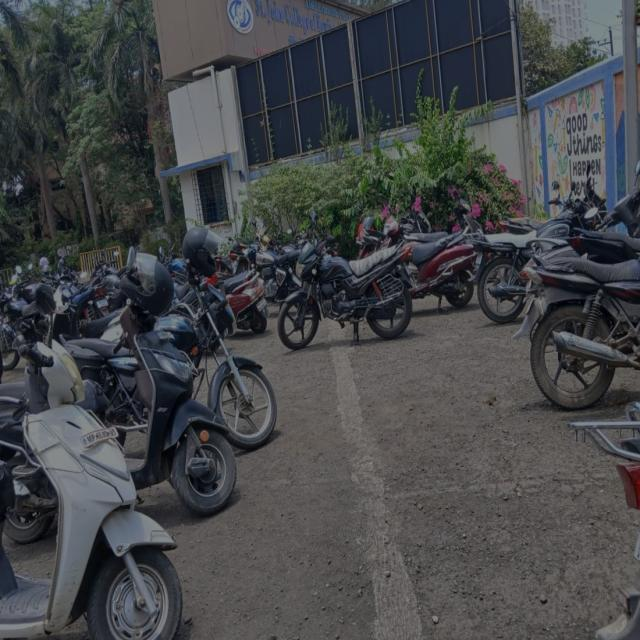Legalparking: (0, 218, 266, 640), (479, 161, 640, 637)
illegalparking: (272, 240, 420, 362)
